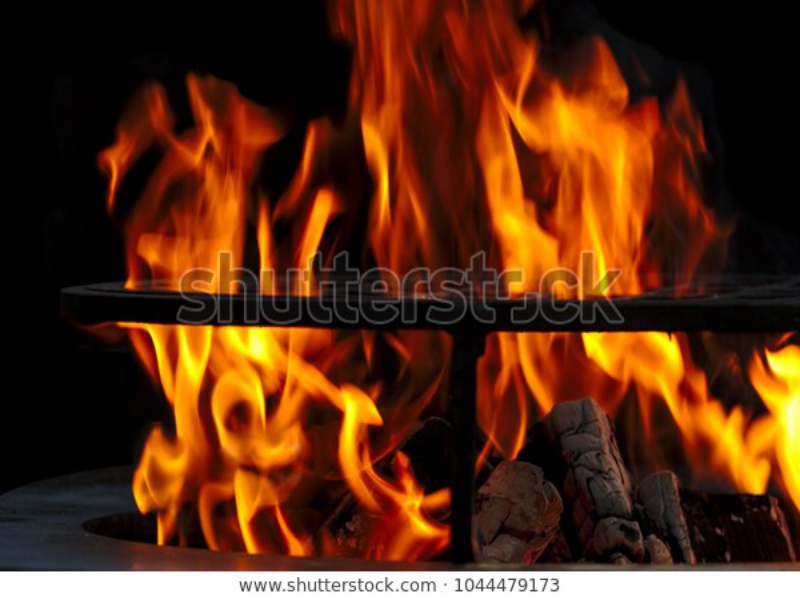fire: (95, 1, 799, 559)
